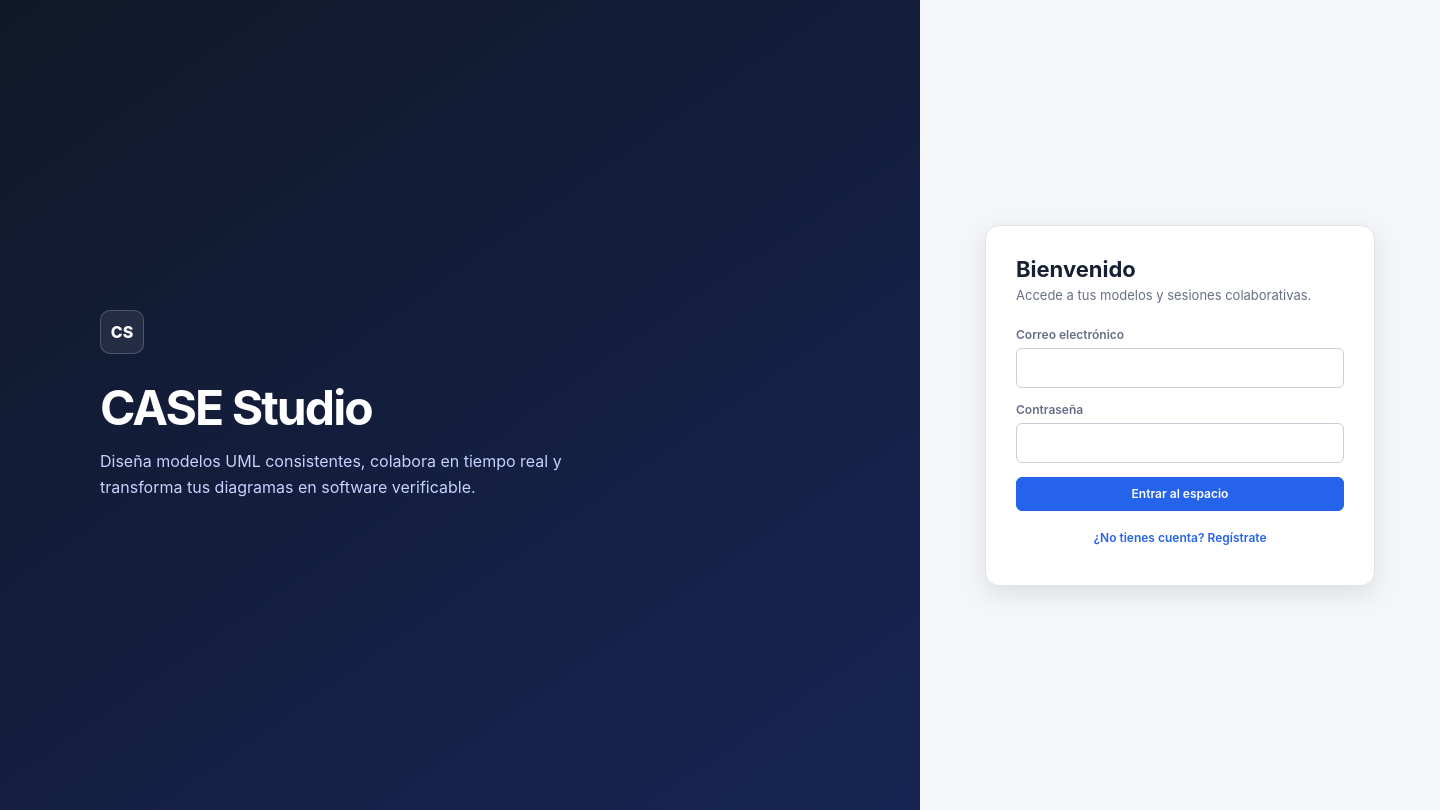
Scenario: ConnectedApp — identidad y sesión (P10-009) › cierra sesión y vuelve al panel de autenticación
Type "dev@case.local" into the field with test id "login-email-input" at (1180, 368), box x1=1016 y1=348 x2=1344 y2=388
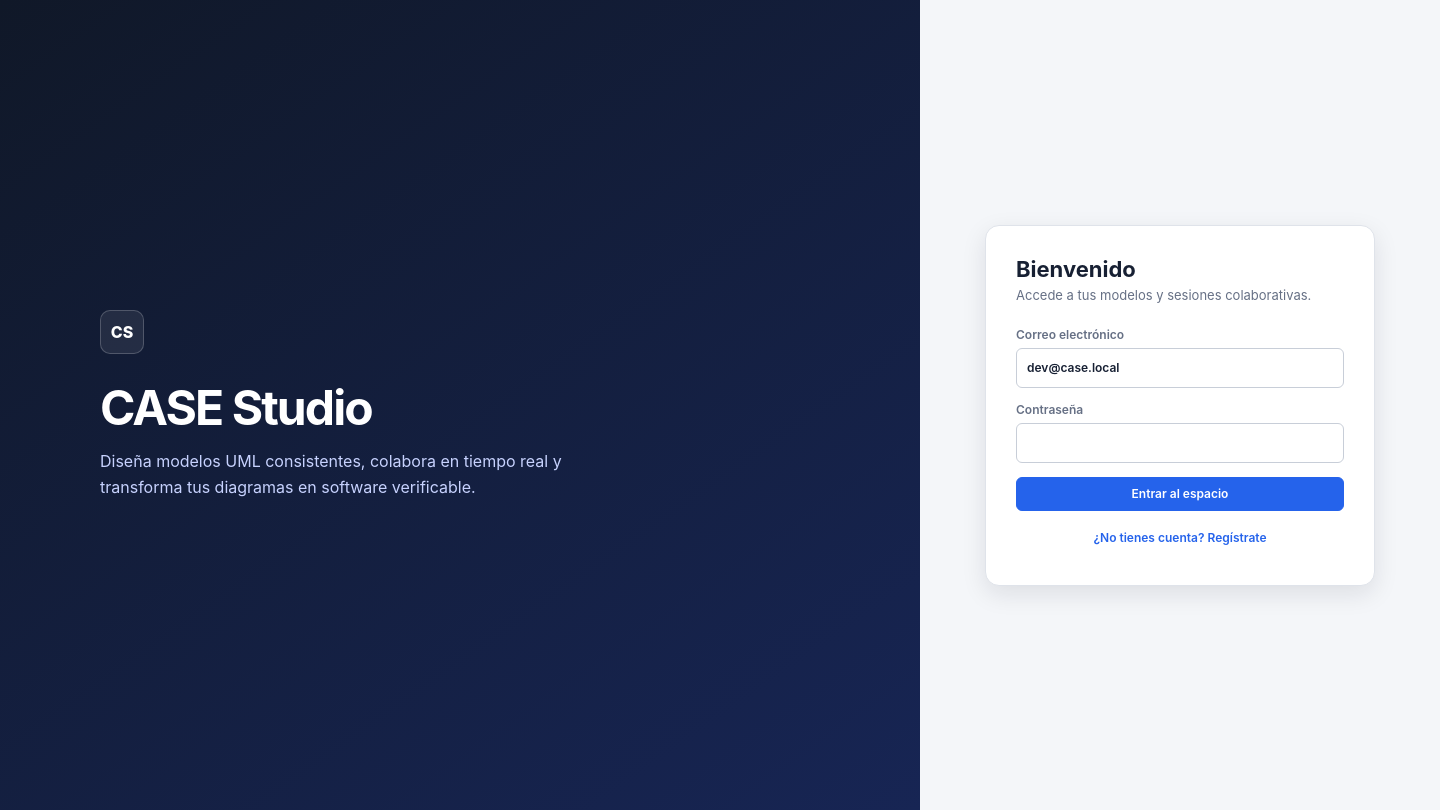
Type "secret-secret" into the password field with test id "login-password-input" at (1180, 442), box x1=1016 y1=422 x2=1344 y2=462
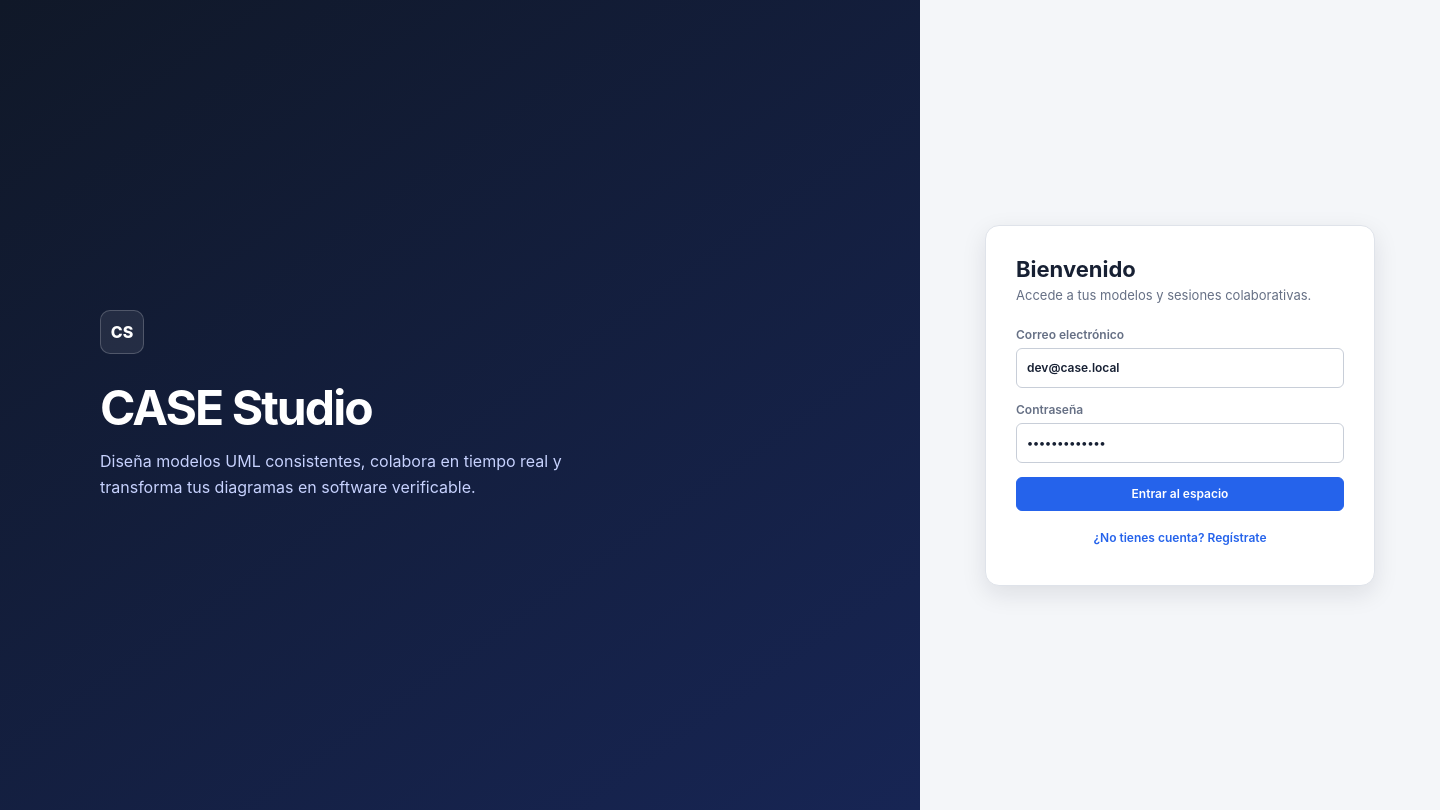
Click the button with test id "login-submit" at (1180, 494), box x1=1016 y1=476 x2=1344 y2=510
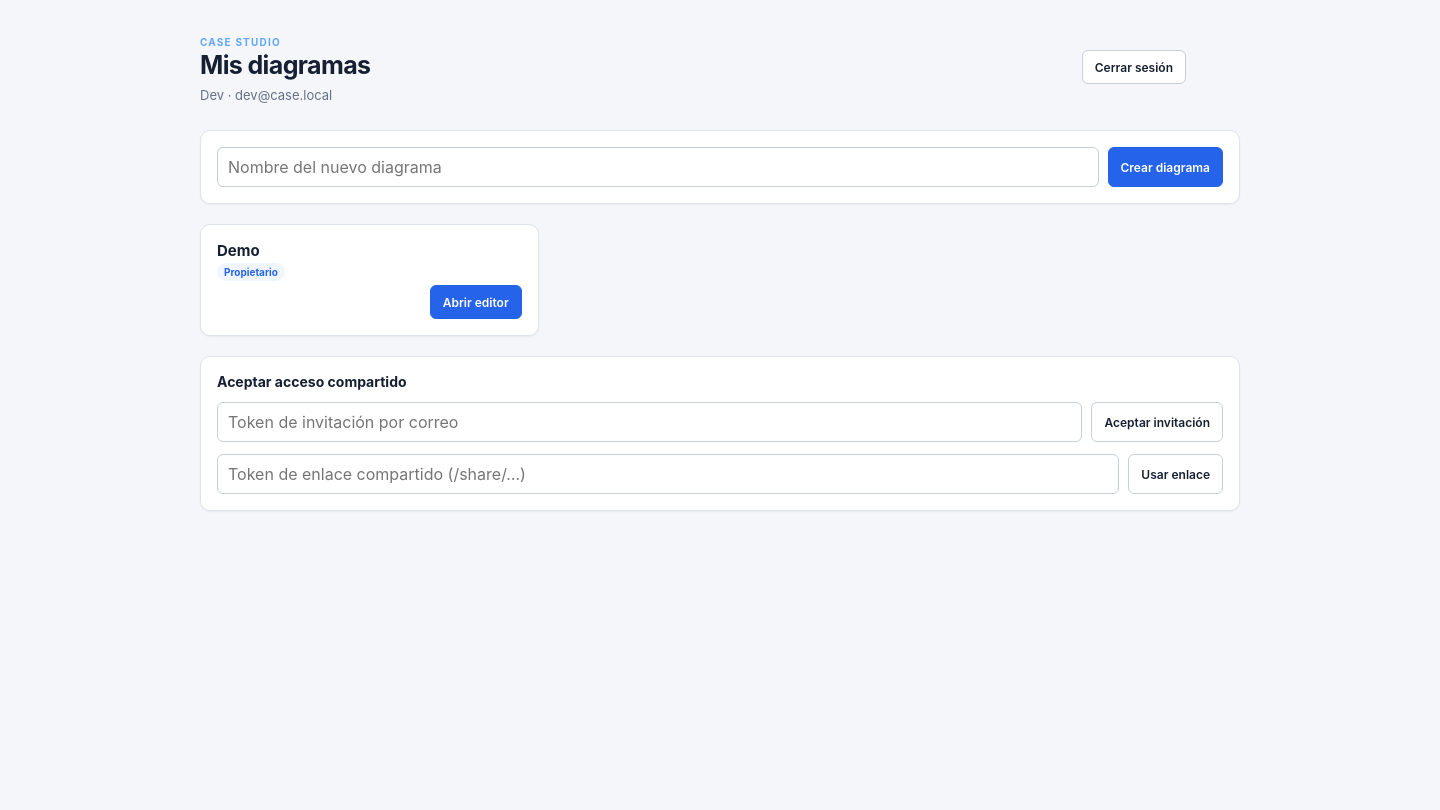
Result: the element with test id "diagram-home" is shown
Click the button with test id "logout-button" at (1134, 67), box x1=1082 y1=50 x2=1186 y2=84
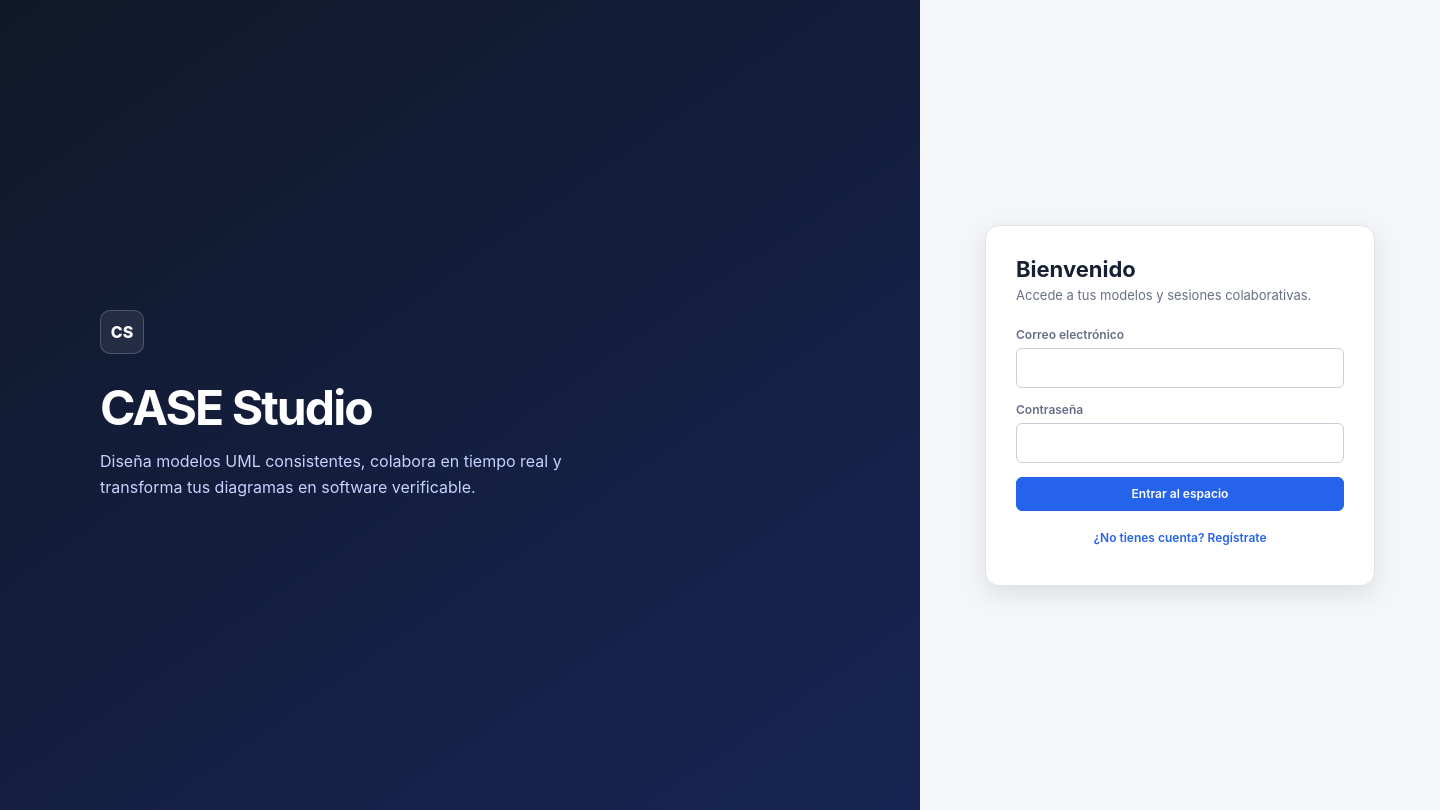
Result: the element with test id "auth-panel" is shown
